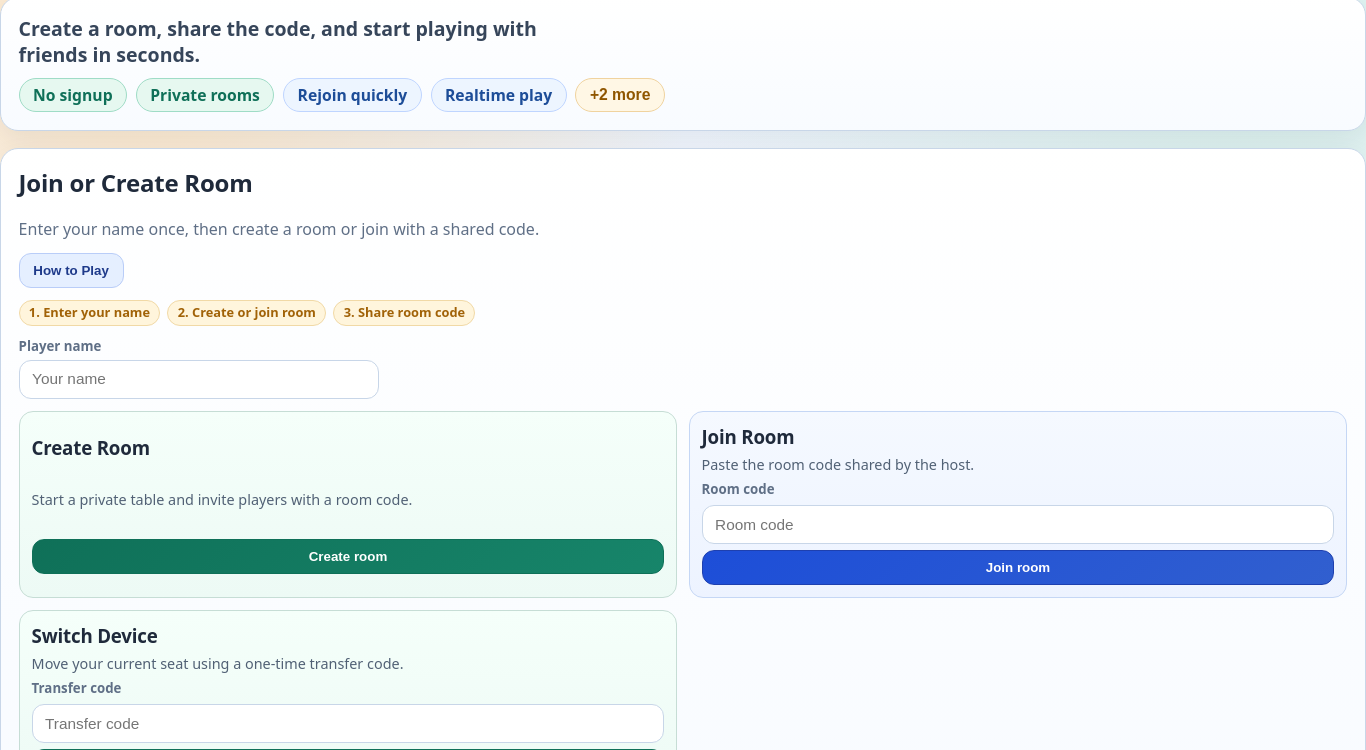
Test: GameClient › shows host-offline join error directly in lobby
Type "Guest" into the field labelled "name" at (199, 379), box x1=19 y1=360 x2=379 y2=399
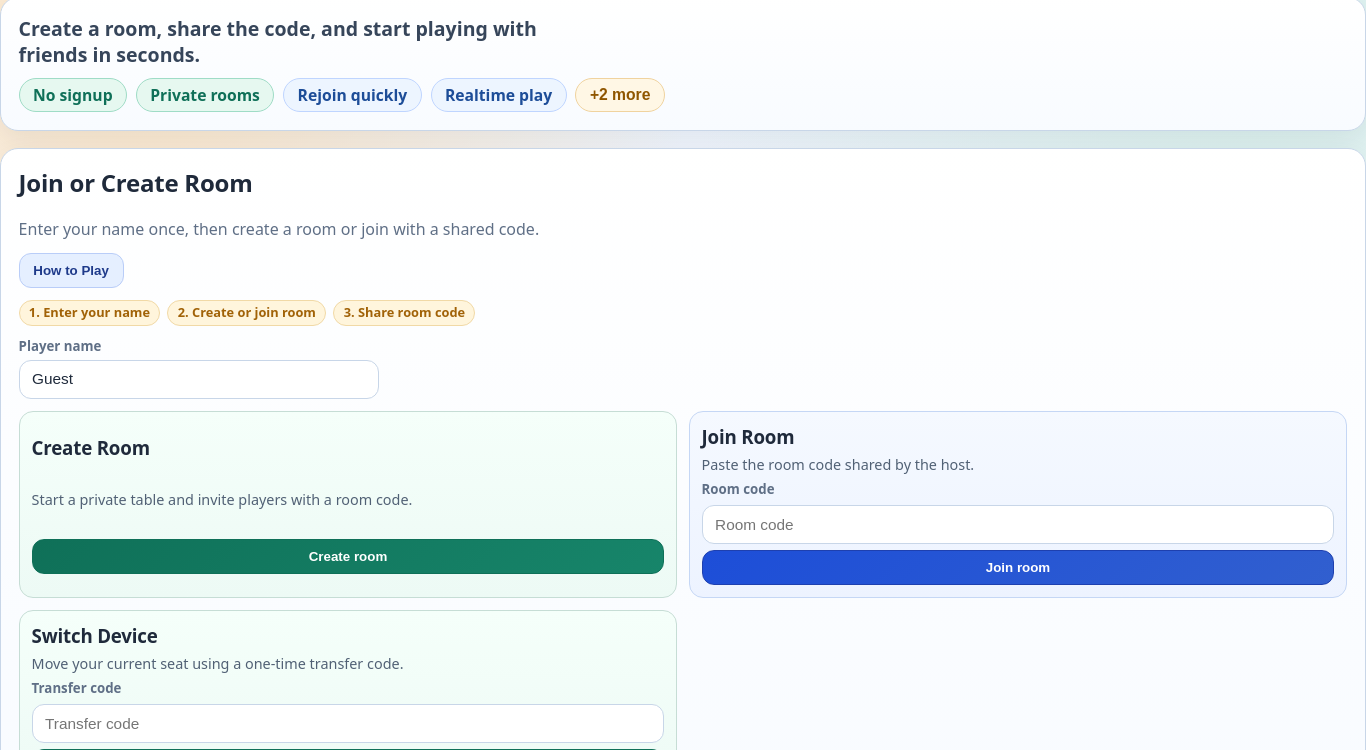
Type "ROOM01" into the field named "room-code" at (1018, 525), box x1=702 y1=506 x2=1334 y2=544
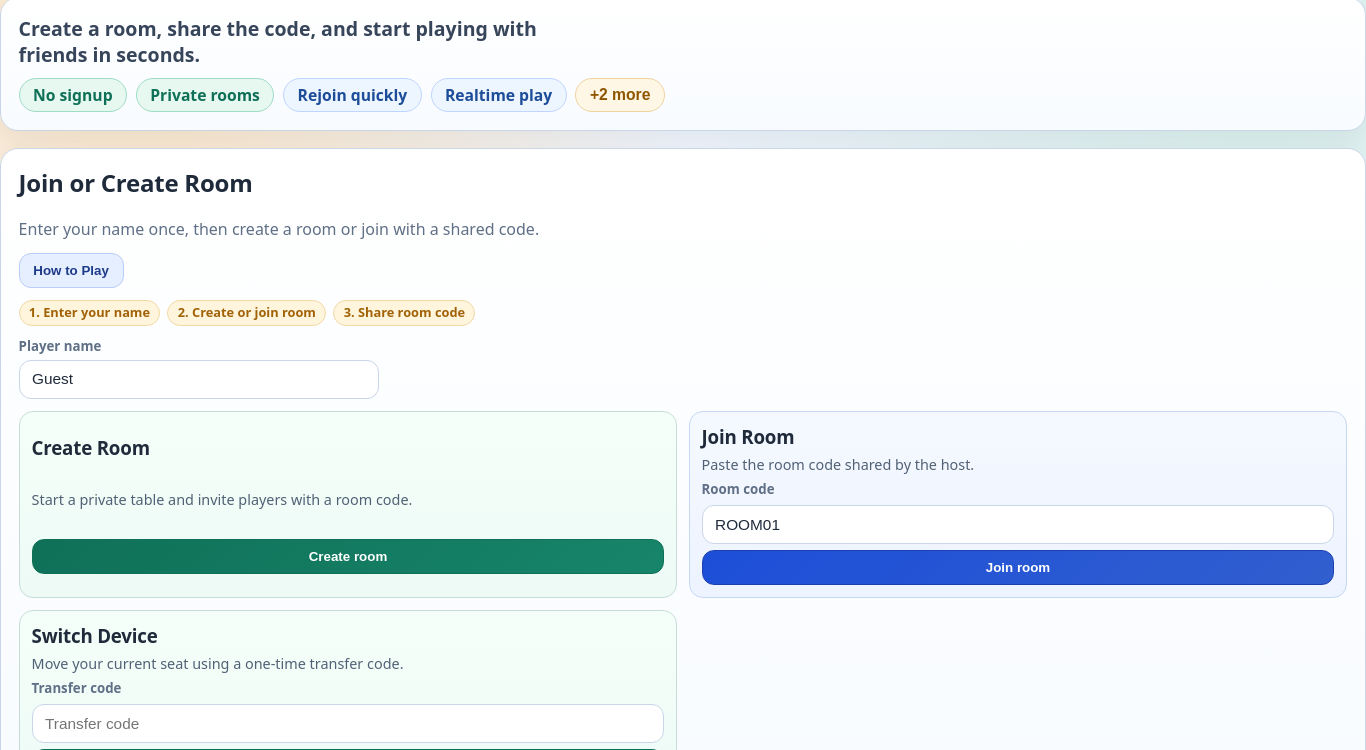
Click the button "Join room" at (1018, 568), box x1=702 y1=550 x2=1334 y2=585
(page scrolled)
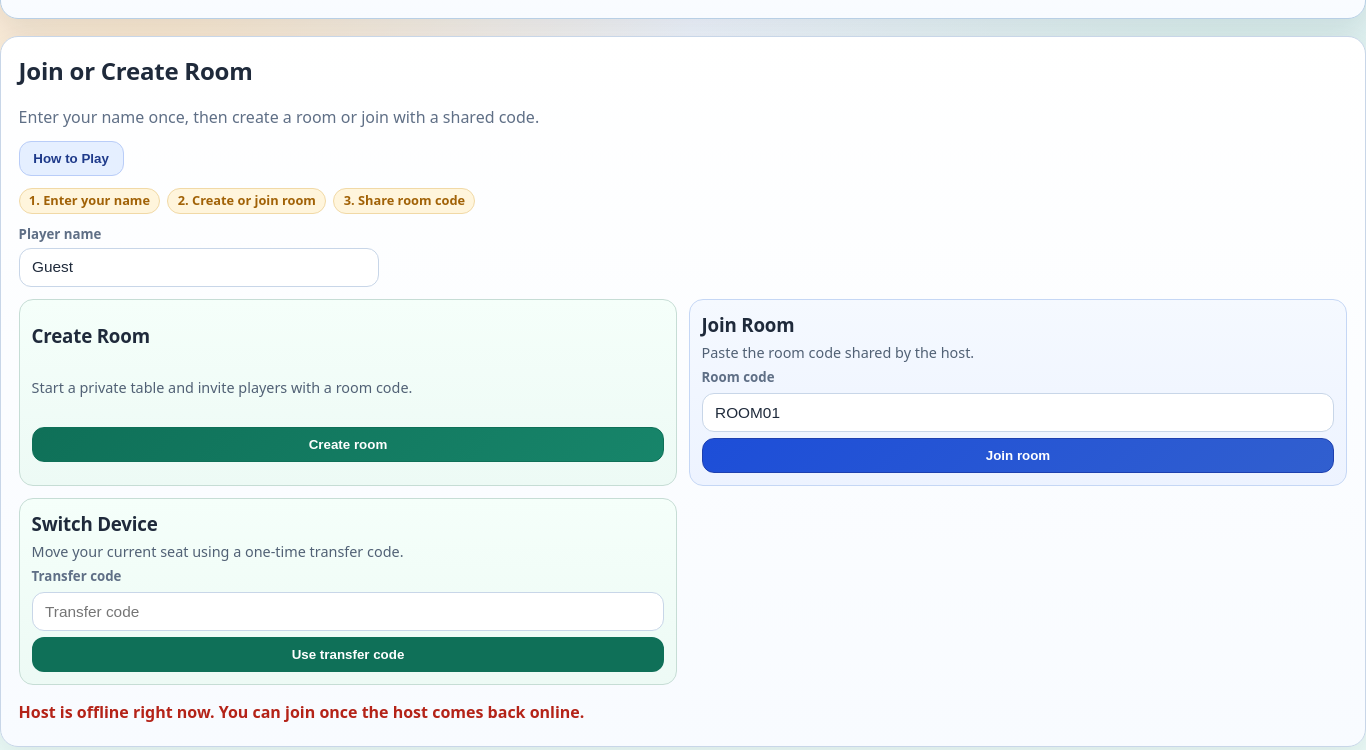
Expected: the text "Host is offline right now. You can join once the host comes back online." is shown, x1=19 y1=701 x2=584 y2=723
